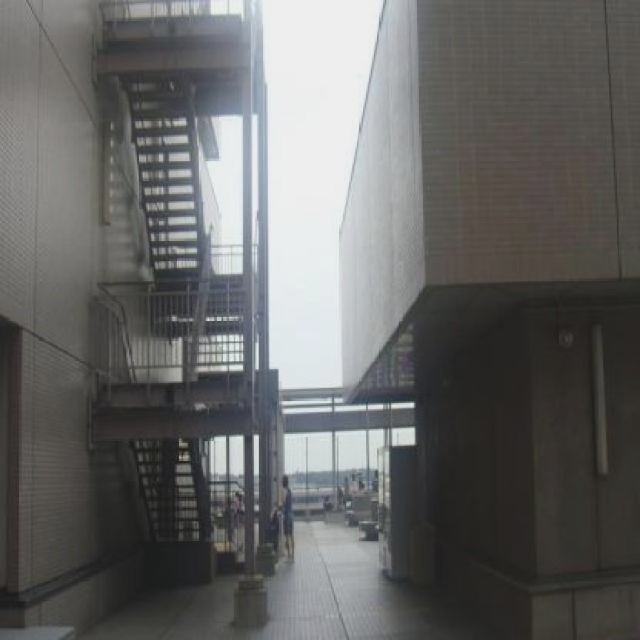stair: (122, 74, 202, 271), (129, 434, 213, 543), (226, 540, 246, 571)
